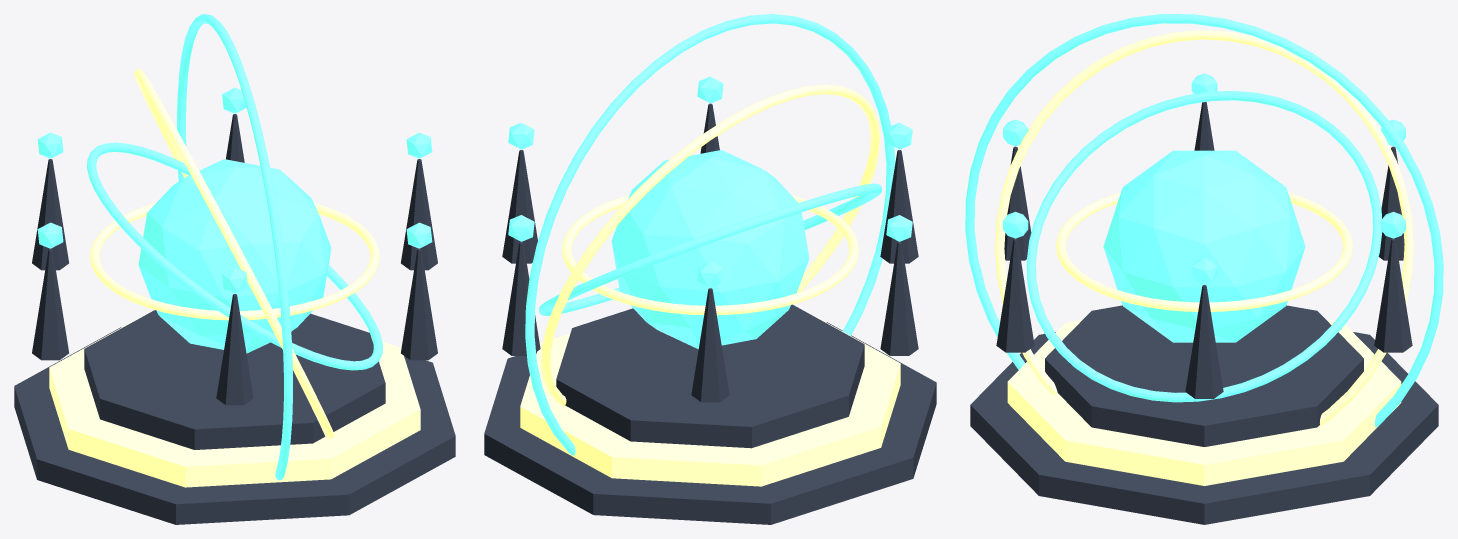
File: gpu-blender-v11.glb
3 views of the same model, side by side, from view 1: azimuth 30°, elevation 25°; view 2: azimuth 150°, elevation 25°; view 3: azimuth 270°, elevation 25° (orthographic). The views are drawn at different scales.
Visible parts, largest first — view 1: Cylinder.002, Cylinder, SovereignCore_zoth-swarm-multiplexer, Cylinder.001, Torus.003, Torus.001, Torus.002, Torus, Cone.004, Cone.003, Cone.005, Cone.002 (+7 smaller); view 2: Cylinder.002, SovereignCore_zoth-swarm-multiplexer, Cylinder, Cylinder.001, Torus.003, Torus.002, Torus.001, Torus, Cone.002, Cone.003, Cone.001, Cone.004 (+7 smaller); view 3: SovereignCore_zoth-swarm-multiplexer, Cylinder.002, Cylinder, Cylinder.001, Torus.003, Torus.001, Torus.002, Torus, Cone.001, Cone.005, Cone, Cone.004 (+3 smaller).
Boxes of the visible parts, x1=… form: Cylinder.002: x1=84, y1=310, x2=385, y2=449; Cylinder: x1=14, y1=327, x2=455, y2=524; SovereignCore_zoth-swarm-multiplexer: x1=138, y1=159, x2=331, y2=353; Cylinder.001: x1=49, y1=318, x2=420, y2=487; Torus.003: x1=177, y1=14, x2=292, y2=480; Torus.001: x1=87, y1=142, x2=382, y2=370; Torus.002: x1=134, y1=69, x2=334, y2=438; Torus: x1=90, y1=203, x2=379, y2=320; Cone.004: x1=216, y1=294, x2=253, y2=405; Cone.003: x1=32, y1=249, x2=68, y2=360; Cone.005: x1=401, y1=249, x2=437, y2=360; Cone.002: x1=32, y1=159, x2=68, y2=270; Cylinder.002: x1=556, y1=304, x2=864, y2=448; SovereignCore_zoth-swarm-multiplexer: x1=611, y1=150, x2=809, y2=349; Cylinder: x1=484, y1=322, x2=936, y2=524; Cylinder.001: x1=520, y1=313, x2=900, y2=486; Torus.003: x1=525, y1=14, x2=895, y2=455; Torus.002: x1=541, y1=84, x2=879, y2=406; Torus.001: x1=539, y1=183, x2=881, y2=315; Torus: x1=562, y1=195, x2=858, y2=315; Cone.002: x1=691, y1=288, x2=729, y2=402; Cone.003: x1=880, y1=242, x2=918, y2=355; Cone.001: x1=502, y1=242, x2=540, y2=355; Cone.004: x1=880, y1=150, x2=918, y2=263; SovereignCore_zoth-swarm-multiplexer: x1=1103, y1=150, x2=1305, y2=342; Cylinder.002: x1=1045, y1=305, x2=1363, y2=446; Cylinder: x1=970, y1=332, x2=1438, y2=524; Cylinder.001: x1=1007, y1=320, x2=1401, y2=485; Torus.003: x1=965, y1=14, x2=1443, y2=427; Torus.001: x1=1026, y1=91, x2=1382, y2=402; Torus.002: x1=995, y1=30, x2=1413, y2=426; Torus: x1=1056, y1=192, x2=1352, y2=311; Cone.001: x1=1374, y1=239, x2=1412, y2=352; Cone.005: x1=996, y1=239, x2=1034, y2=352; Cone: x1=1185, y1=285, x2=1223, y2=398; Cone.004: x1=1004, y1=146, x2=1031, y2=260.
Bounding box in the file's own units: 4.41 × 4.7 × 4.49.
